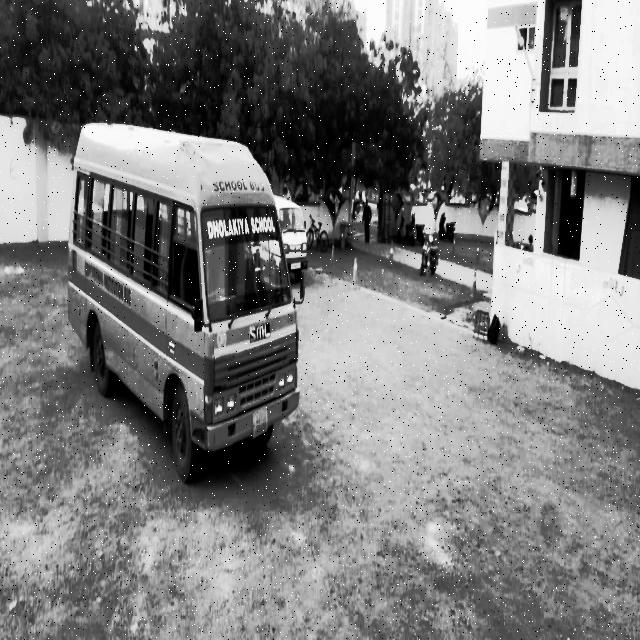Bus: (56, 89, 313, 522)
